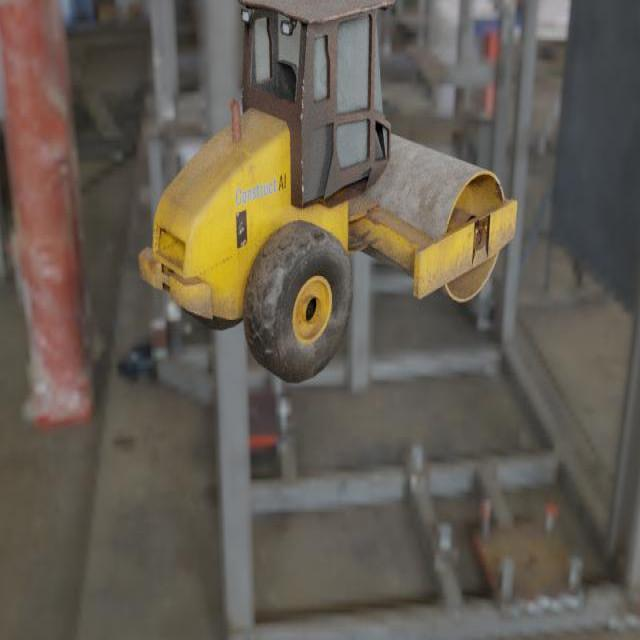Roller: (137, 0, 517, 385)
